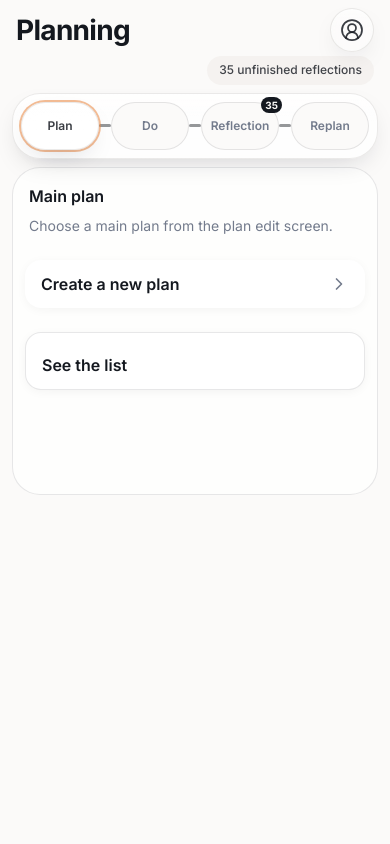
Plan home › opens the Do page from See the list
Click the button with test id "plan-see-list": (85, 364) [38,344,352,376]
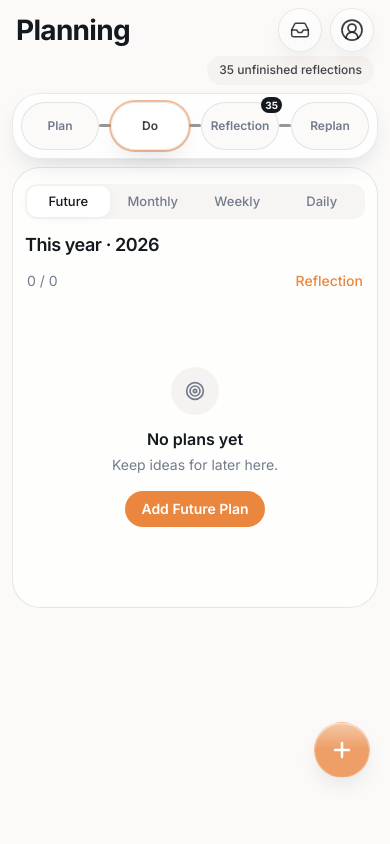
Expected: the tab "Future" is shown, [27,186,110,217]
